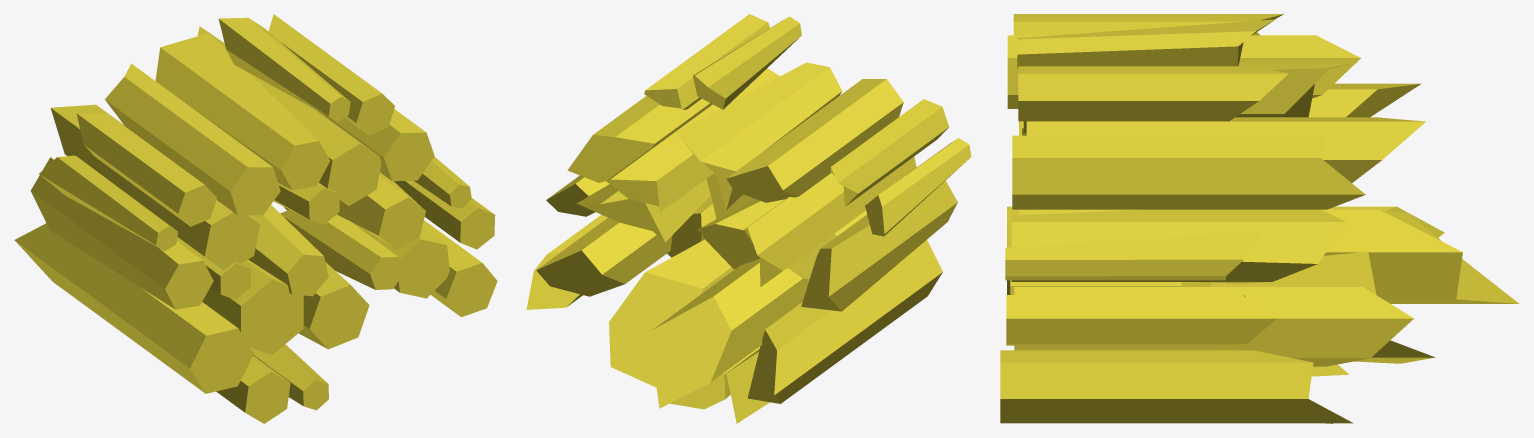
File: Crystals.fbx
3 views of the same model, side by side, from view 1: azimuth 30°, elevation 25°; view 2: azimuth 150°, elevation 25°; view 3: azimuth 270°, elevation 25° (orthographic). The views are drawn at different scales.
Parts seen in each view (by area): view 1: Cylinder.003; view 2: Cylinder.003; view 3: Cylinder.003.
Boxes of the visible parts, box(x1,y1,x2,y2) form: Cylinder.003: box(14, 14, 497, 423); Cylinder.003: box(526, 14, 971, 423); Cylinder.003: box(1000, 14, 1519, 423).
Size of the model in its own units: 967 by 857 by 997.
